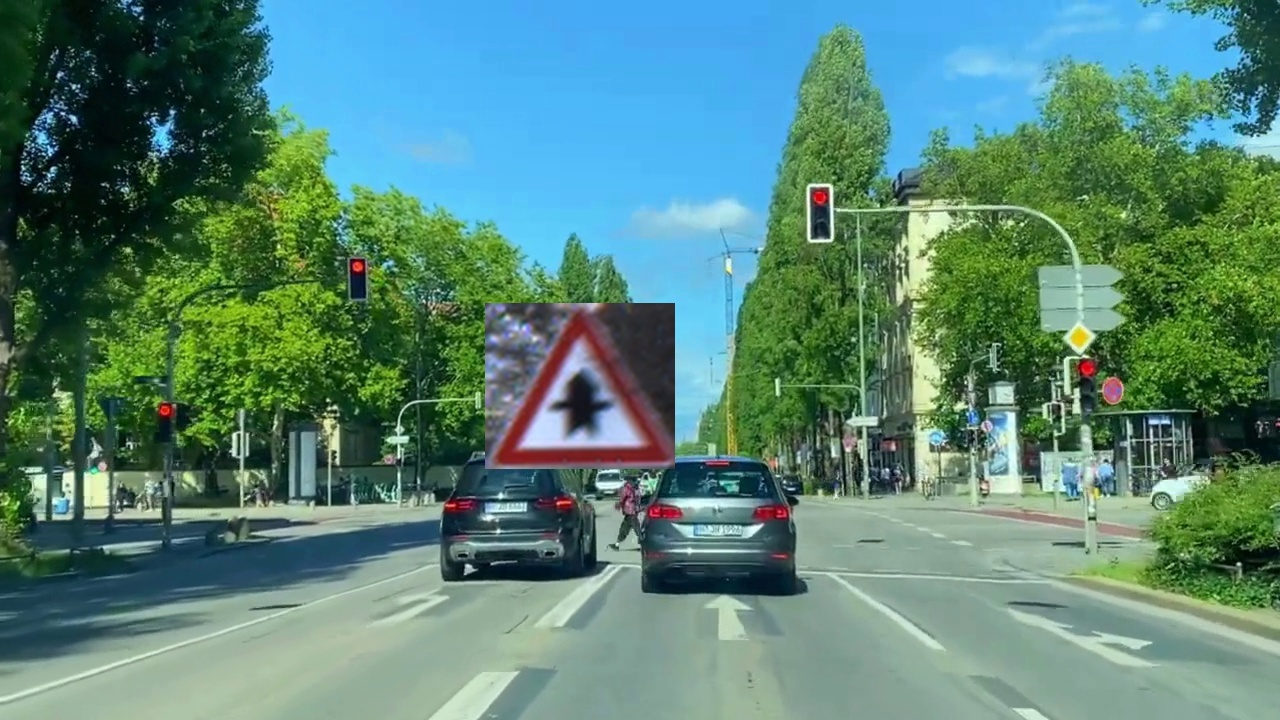Right-of-way: (485, 303, 675, 469)
